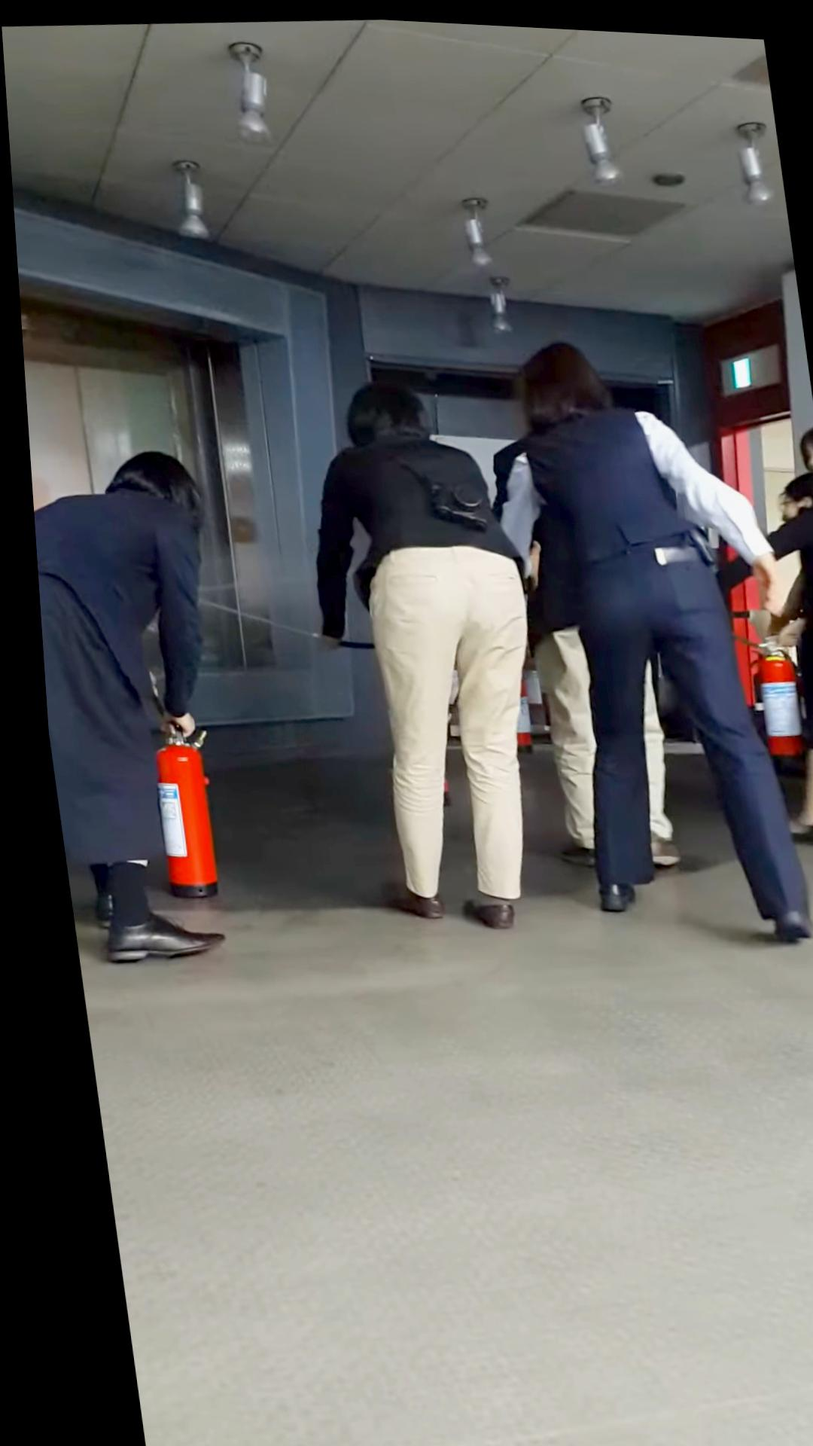FireExtinguisher: (128, 721, 231, 898), (728, 606, 813, 763)
